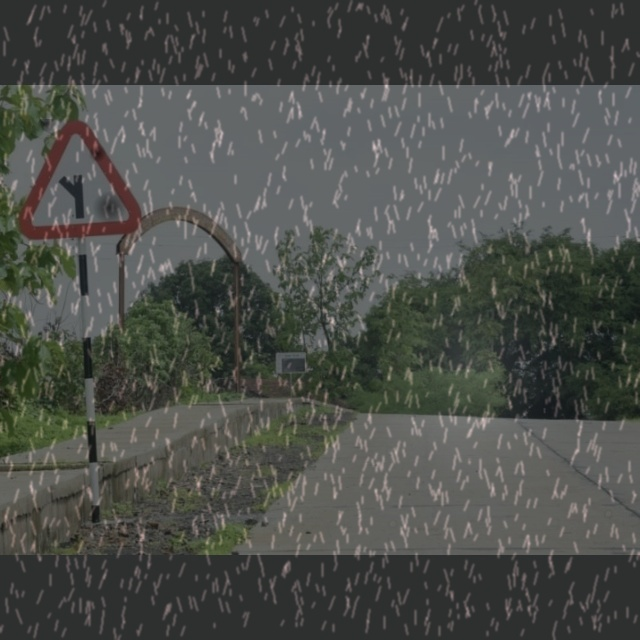Y_Intersection: (21, 119, 145, 241)
